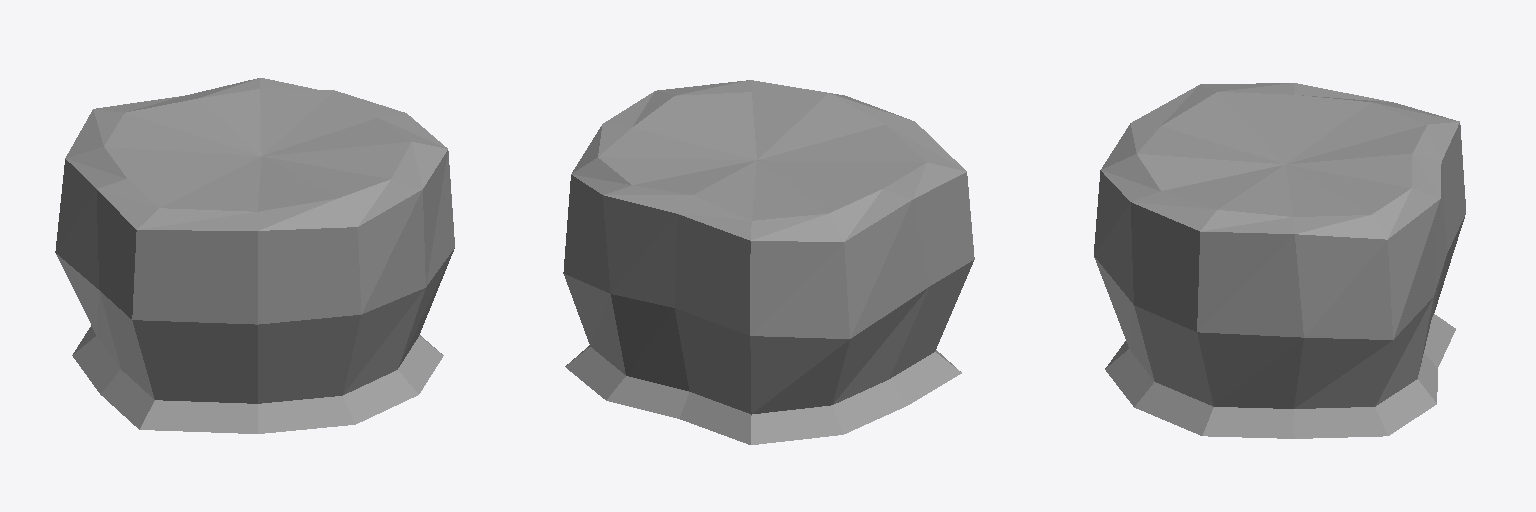
Rendered from Mesh_CavePack_Platform1_lod0.obj.
3 views of the same model, side by side, from view 1: azimuth 30°, elevation 25°; view 2: azimuth 150°, elevation 25°; view 3: azimuth 270°, elevation 25° (orthographic).
Visible parts, largest first — view 1: Circle; view 2: Circle; view 3: Circle.
Boxes of the visible parts, x1=… form: Circle: x1=55, y1=78, x2=454, y2=433; Circle: x1=563, y1=80, x2=974, y2=444; Circle: x1=1094, y1=83, x2=1465, y2=438.
Bounding box in the file's own units: 7.55 × 4.69 × 7.37.